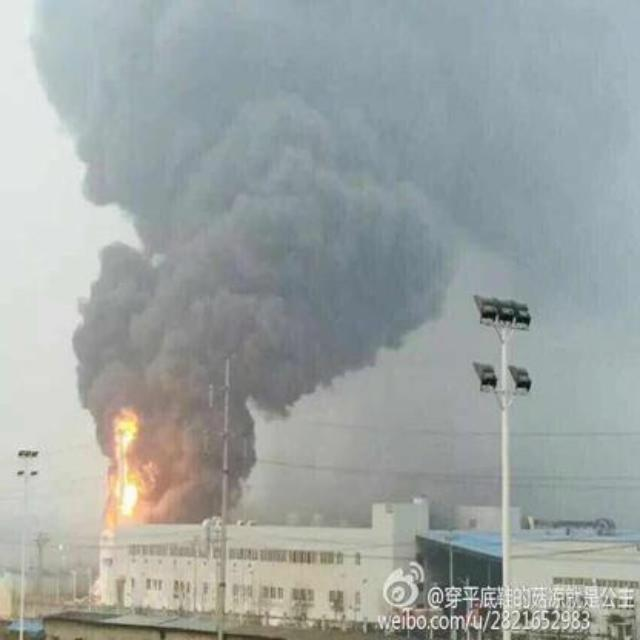Fire: (110, 404, 142, 518)
Smoke: (45, 10, 465, 398), (150, 407, 252, 528)
